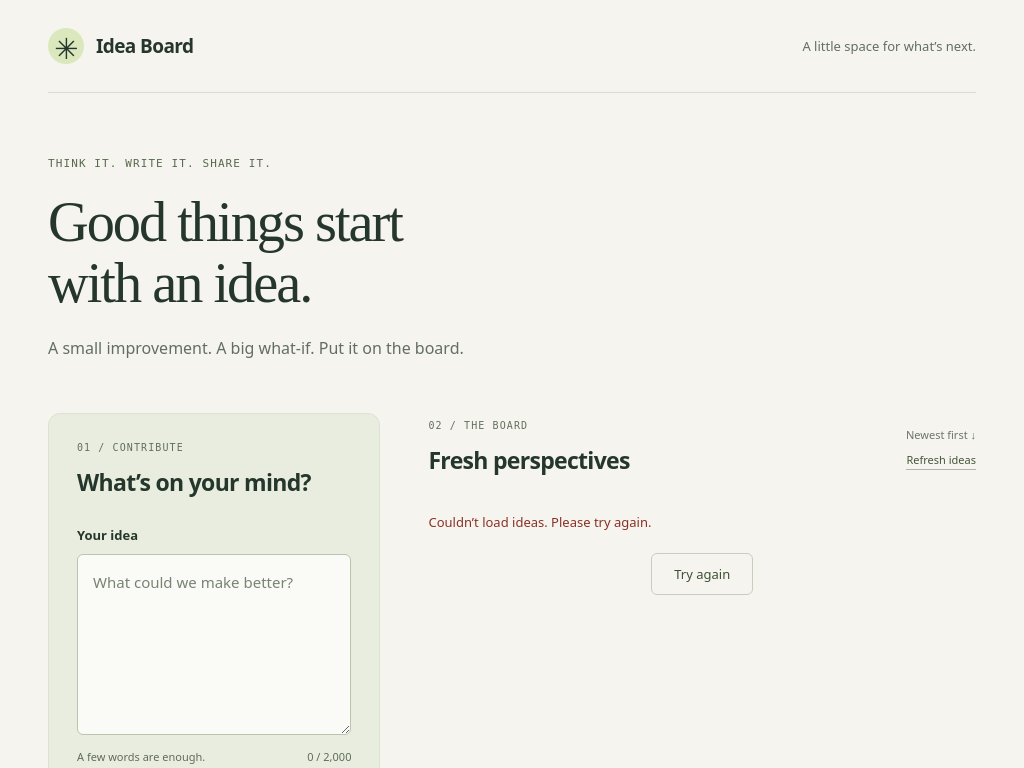
it: Idea Board › retries an initial read failure
Expected: the button "Refresh ideas" is enabled, [906, 452, 976, 470]
Expected: the message "Couldn’t load ideas. Please try again." is shown, [428, 513, 651, 531]
Click the button "Try again".
click(702, 574)  # box [651, 553, 753, 595]
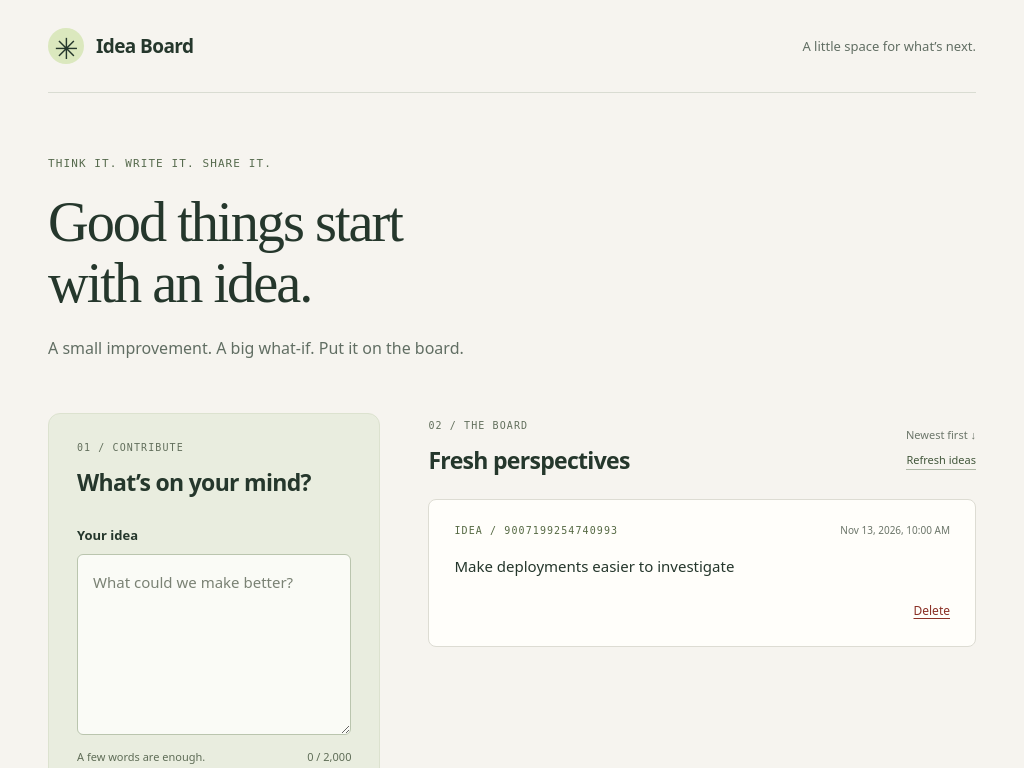
Expected: the text "Make deployments easier to investigate" is shown, [454, 556, 734, 576]
Expected: the message "Couldn’t load ideas. Please try again." is gone
